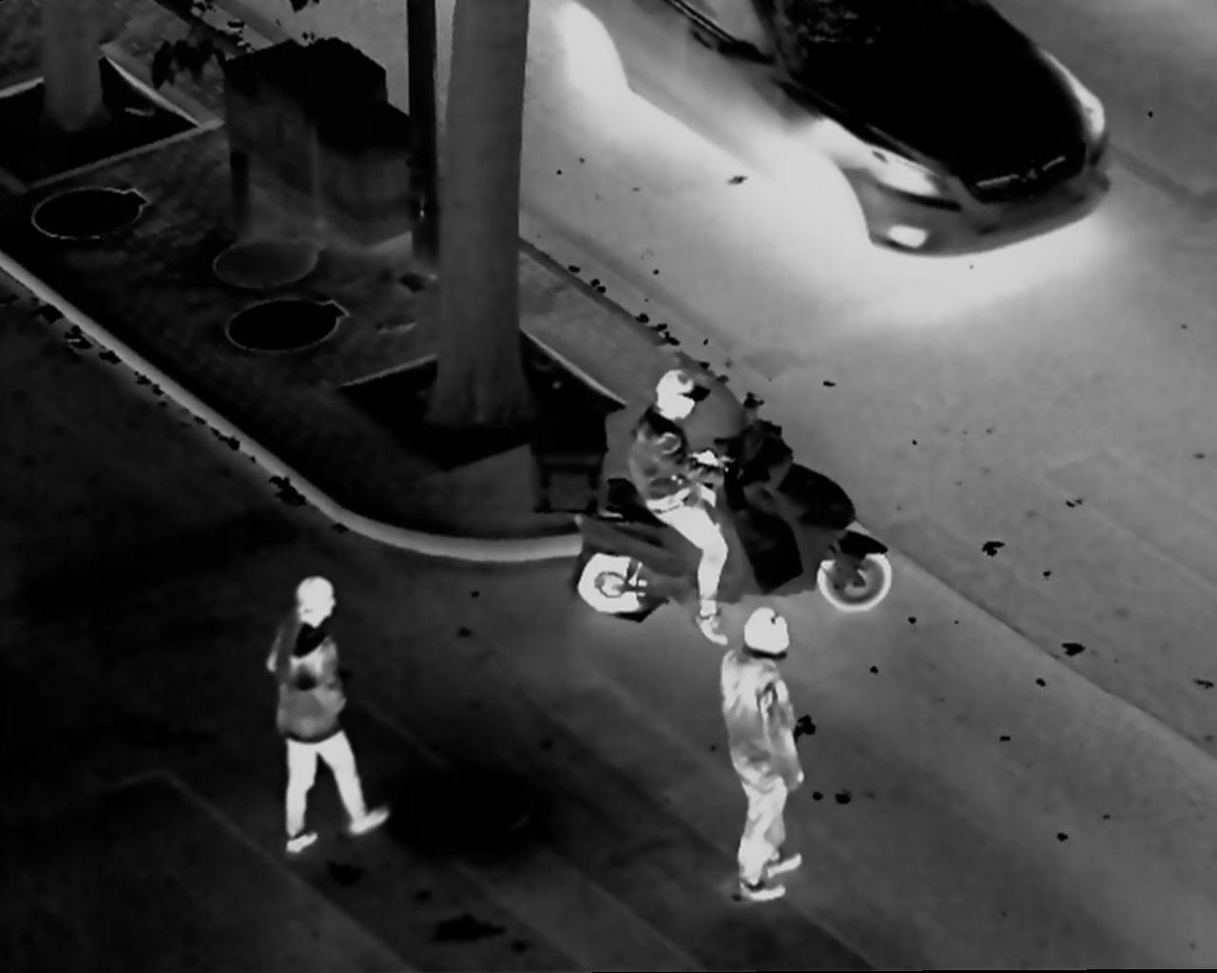person: (260, 573, 392, 855), (631, 366, 740, 650), (716, 603, 809, 902)
